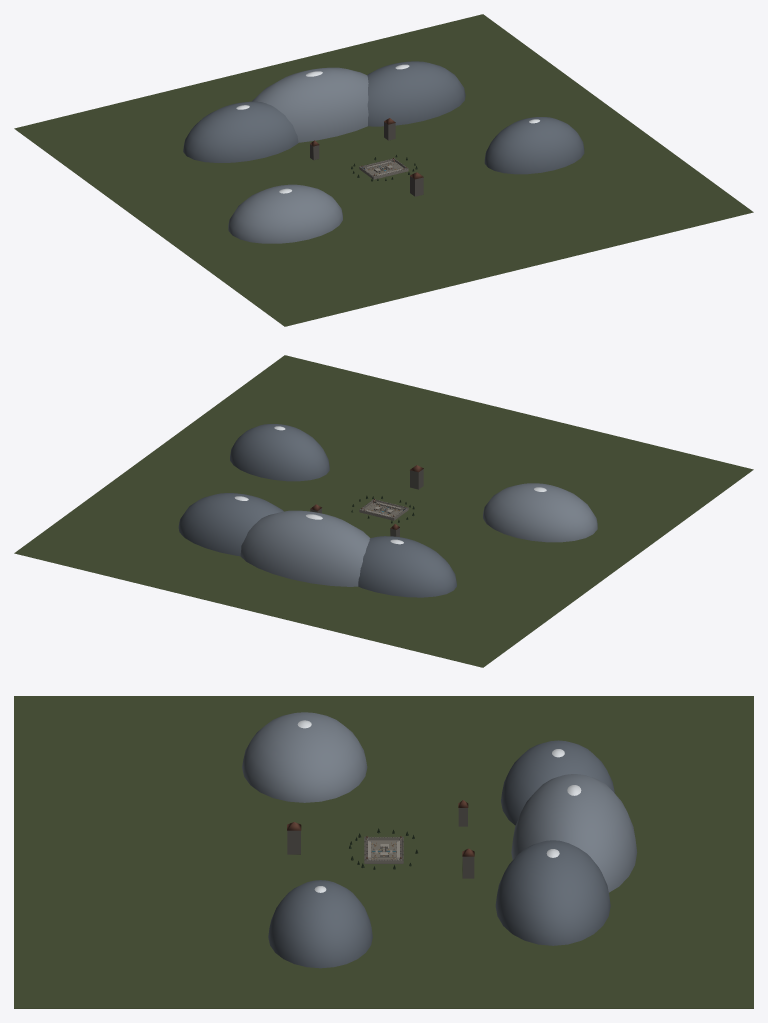
File: castelo.glb
3 renders of one model, top to bottom at view 1: azimuth 30°, elevation 25°; view 2: azimuth 150°, elevation 25°; view 3: azimuth 270°, elevation 25°, orthographic. The views are drawn at different scales.
Visible parts, largest first — view 1: Visual; view 2: Visual; view 3: Visual.
Boxes of the visible parts, x1=… form: Visual: x1=14, y1=14, x2=753, y2=326; Visual: x1=14, y1=355, x2=753, y2=667; Visual: x1=14, y1=696, x2=753, y2=1008.
Size of the model in its own units: 1400 by 283 by 1400.
